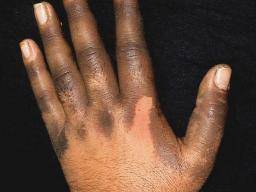Diseased: (28, 4, 226, 187)
